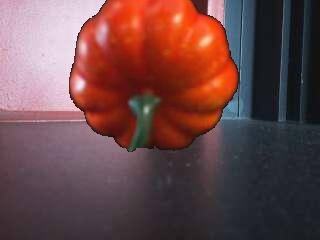Pumpkin: (70, 0, 240, 152)
